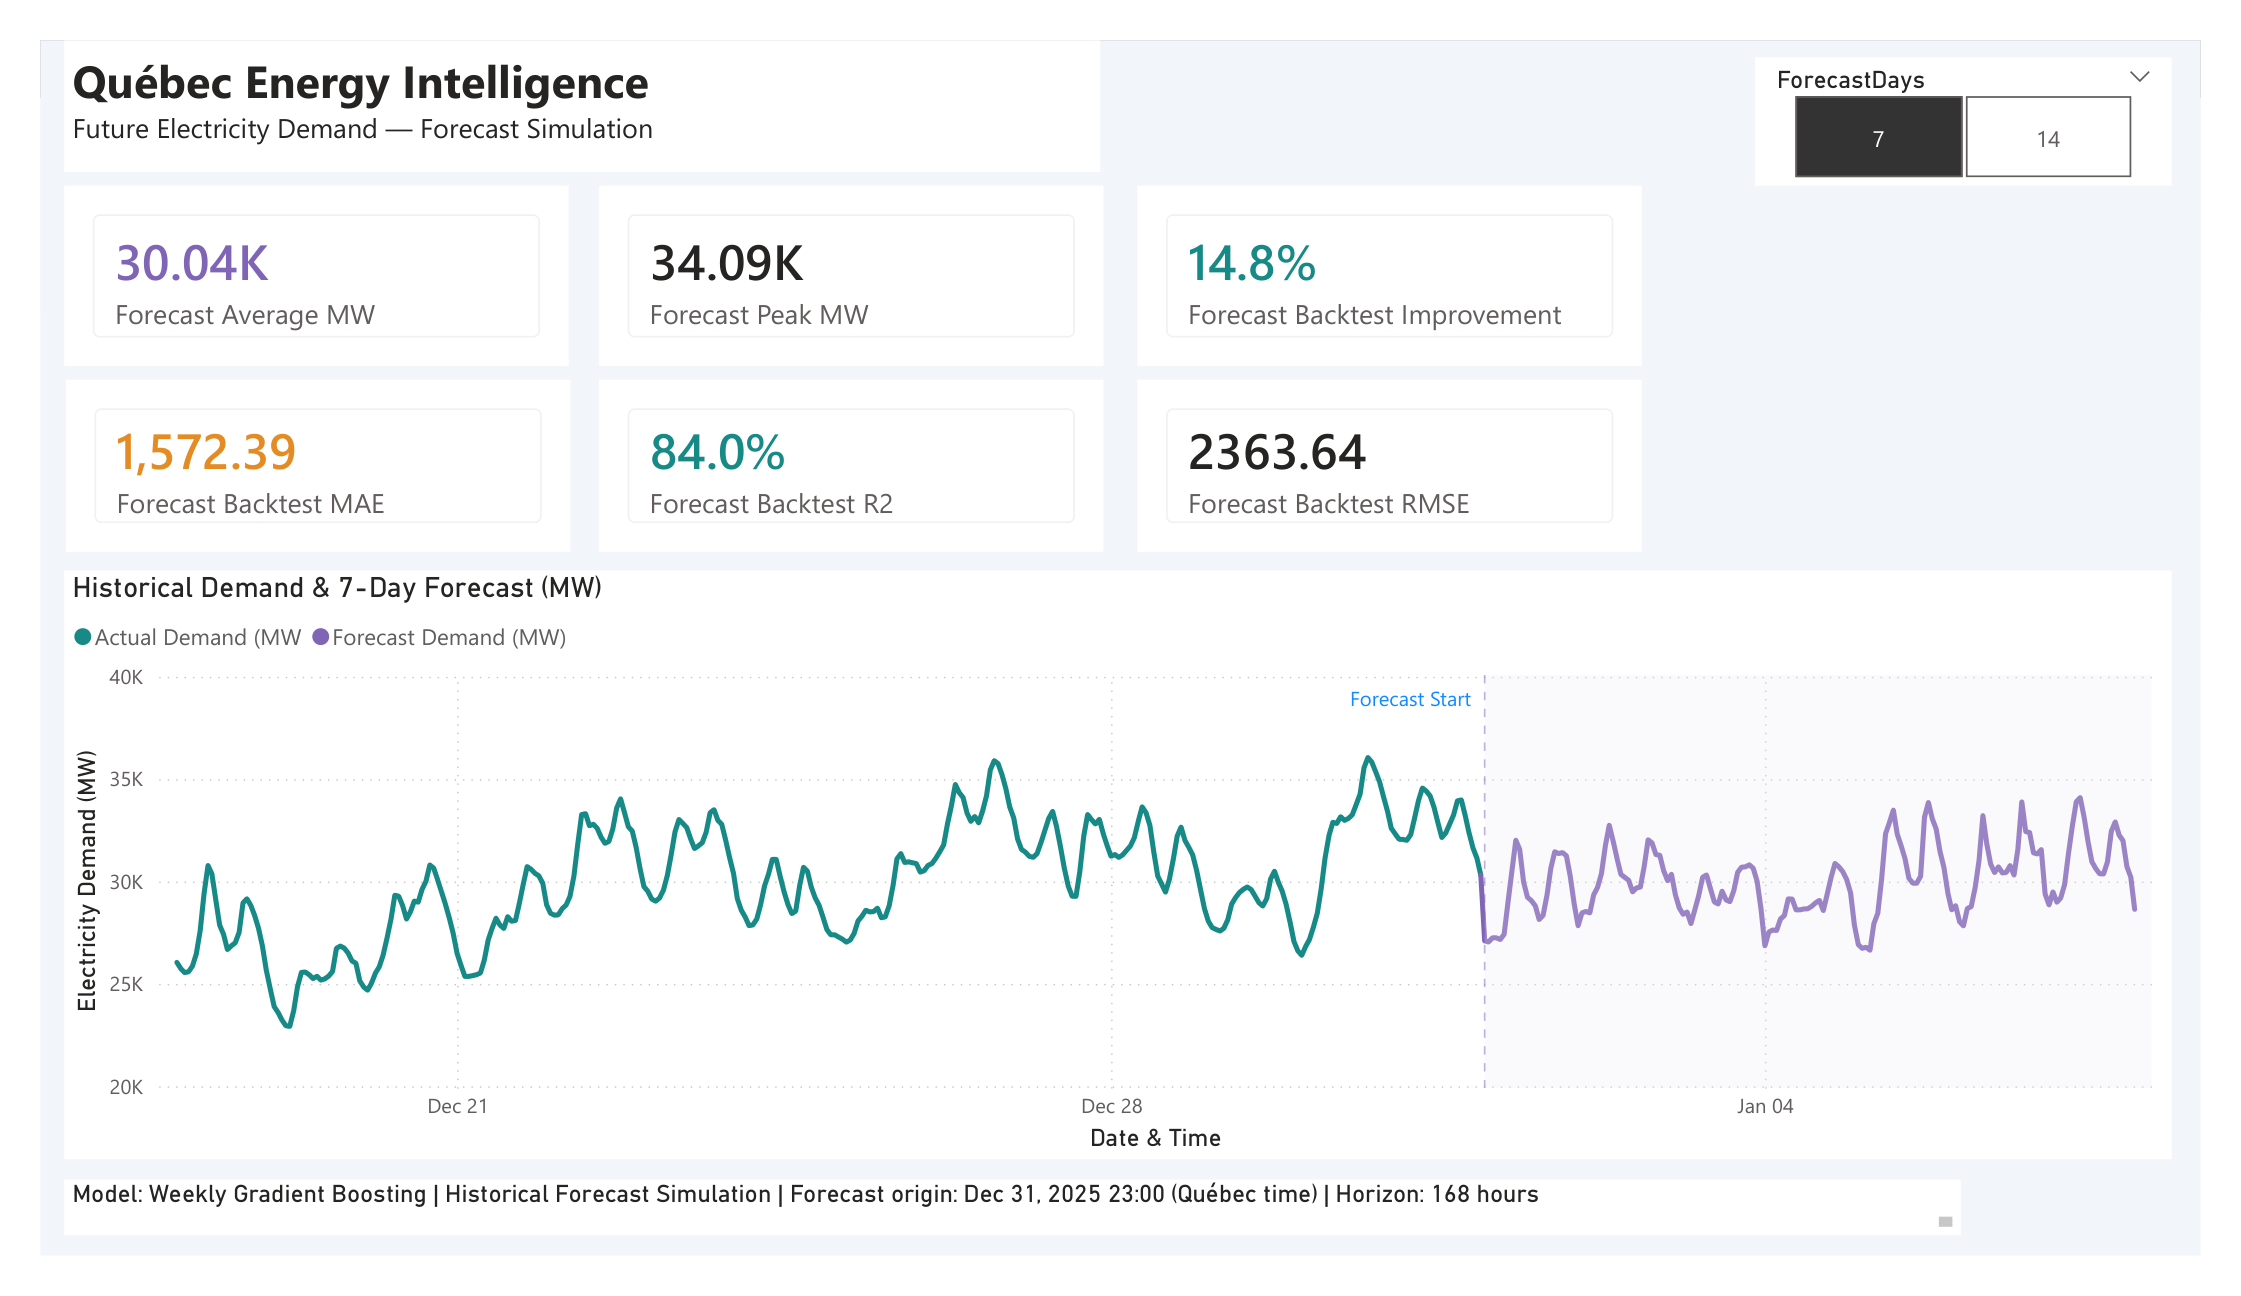

The dashboard page shown, as its layout file describes it:
{"tool":"powerbi","page":{"name":"Future Demand ","canvas":[1280,720],"ordinal":4},"visuals":[{"type":"lineChart","fields":{"Y":["Sum(dw vw_DemandActualForecast.ActualDemandMW)","Sum(dw vw_DemandActualForecast.PredictedDemandMW)"],"Category":["dw vw_DemandActualForecast.LocalHour"]},"box":[13.8,313.8,1248.8,348.8],"z":0},{"type":"textbox","box":[13.8,0,613.8,77.5],"z":1000},{"type":"cardVisual","fields":{"Data":["_Measures.Forecast Average MW"]},"box":[13.8,86.2,298.8,106.2],"z":2000},{"type":"cardVisual","fields":{"Data":["_Measures.Forecast Peak MW"]},"box":[331.2,86.2,298.8,106.2],"z":3000},{"type":"textbox","box":[13.8,675,1123.8,32.5],"z":4000},{"type":"slicer","fields":{"Values":["dw vw_DemandActualForecast.ForecastDays"]},"box":[1016.2,10,246.2,76.2],"z":5000},{"type":"cardVisual","fields":{"Data":["_Measures.Forecast Backtest Improvement"]},"box":[650,86.2,298.8,106.2],"z":6000},{"type":"cardVisual","fields":{"Data":["_Measures.Forecast Backtest MAE"]},"box":[15,201.2,298.8,101.2],"z":7000},{"type":"cardVisual","fields":{"Data":["_Measures.Forecast Backtest R2"]},"box":[331.2,201.2,298.8,101.2],"z":8000},{"type":"cardVisual","fields":{"Data":["_Measures.Forecast Backtest RMSE"]},"box":[650,201.2,298.8,101.2],"z":9000}]}

Visuals, with their boxes in screenshot pixels (x1, y1, x2, y2), scaled from the page's 1280x720 canvas onto the 2241x1296 screenshot:
lineChart - Sum(dw vw_DemandActualForecast.ActualDemandMW) x Sum(dw vw_DemandActualForecast.PredictedDemandMW): box(24, 565, 2211, 1193)
textbox: box(24, 0, 1099, 140)
cardVisual - _Measures.Forecast Average MW: box(24, 155, 547, 346)
cardVisual - _Measures.Forecast Peak MW: box(580, 155, 1103, 346)
textbox: box(24, 1215, 1992, 1274)
slicer - dw vw_DemandActualForecast.ForecastDays: box(1779, 18, 2210, 155)
cardVisual - _Measures.Forecast Backtest Improvement: box(1138, 155, 1661, 346)
cardVisual - _Measures.Forecast Backtest MAE: box(26, 362, 549, 544)
cardVisual - _Measures.Forecast Backtest R2: box(580, 362, 1103, 544)
cardVisual - _Measures.Forecast Backtest RMSE: box(1138, 362, 1661, 544)
